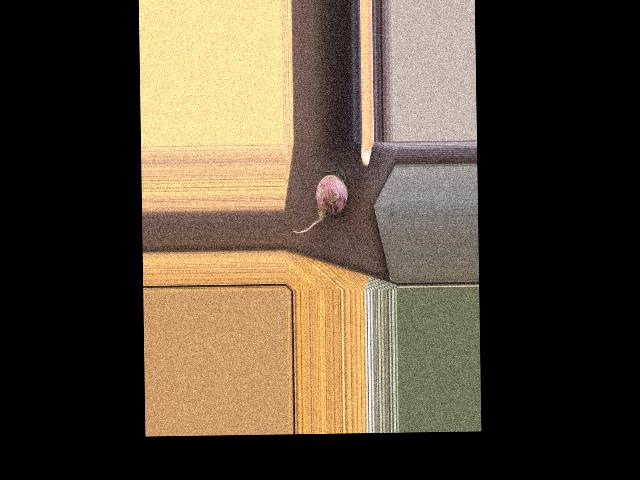beet: (292, 164, 348, 233)
